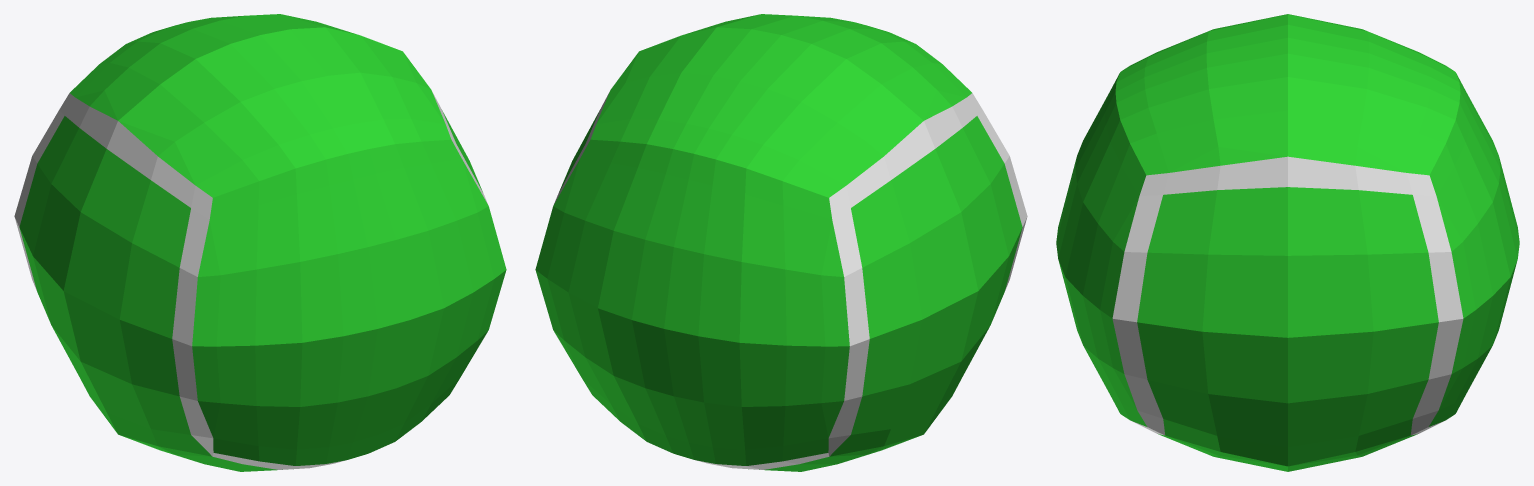
File: Tennis Ball.fbx
The picture shows the model from 3 angles, left to right: view 1: azimuth 30°, elevation 25°; view 2: azimuth 150°, elevation 25°; view 3: azimuth 270°, elevation 25°; orthographic projection.
Parts seen in each view (by area): view 1: Tennis Ball; view 2: Tennis Ball; view 3: Tennis Ball.
Boxes of the visible parts, x1,y1,x2,y2 form: Tennis Ball: (14, 14, 506, 471); Tennis Ball: (535, 14, 1027, 471); Tennis Ball: (1056, 14, 1519, 471).
Size of the model in its own units: 76.27 by 76.96 by 78.75.
